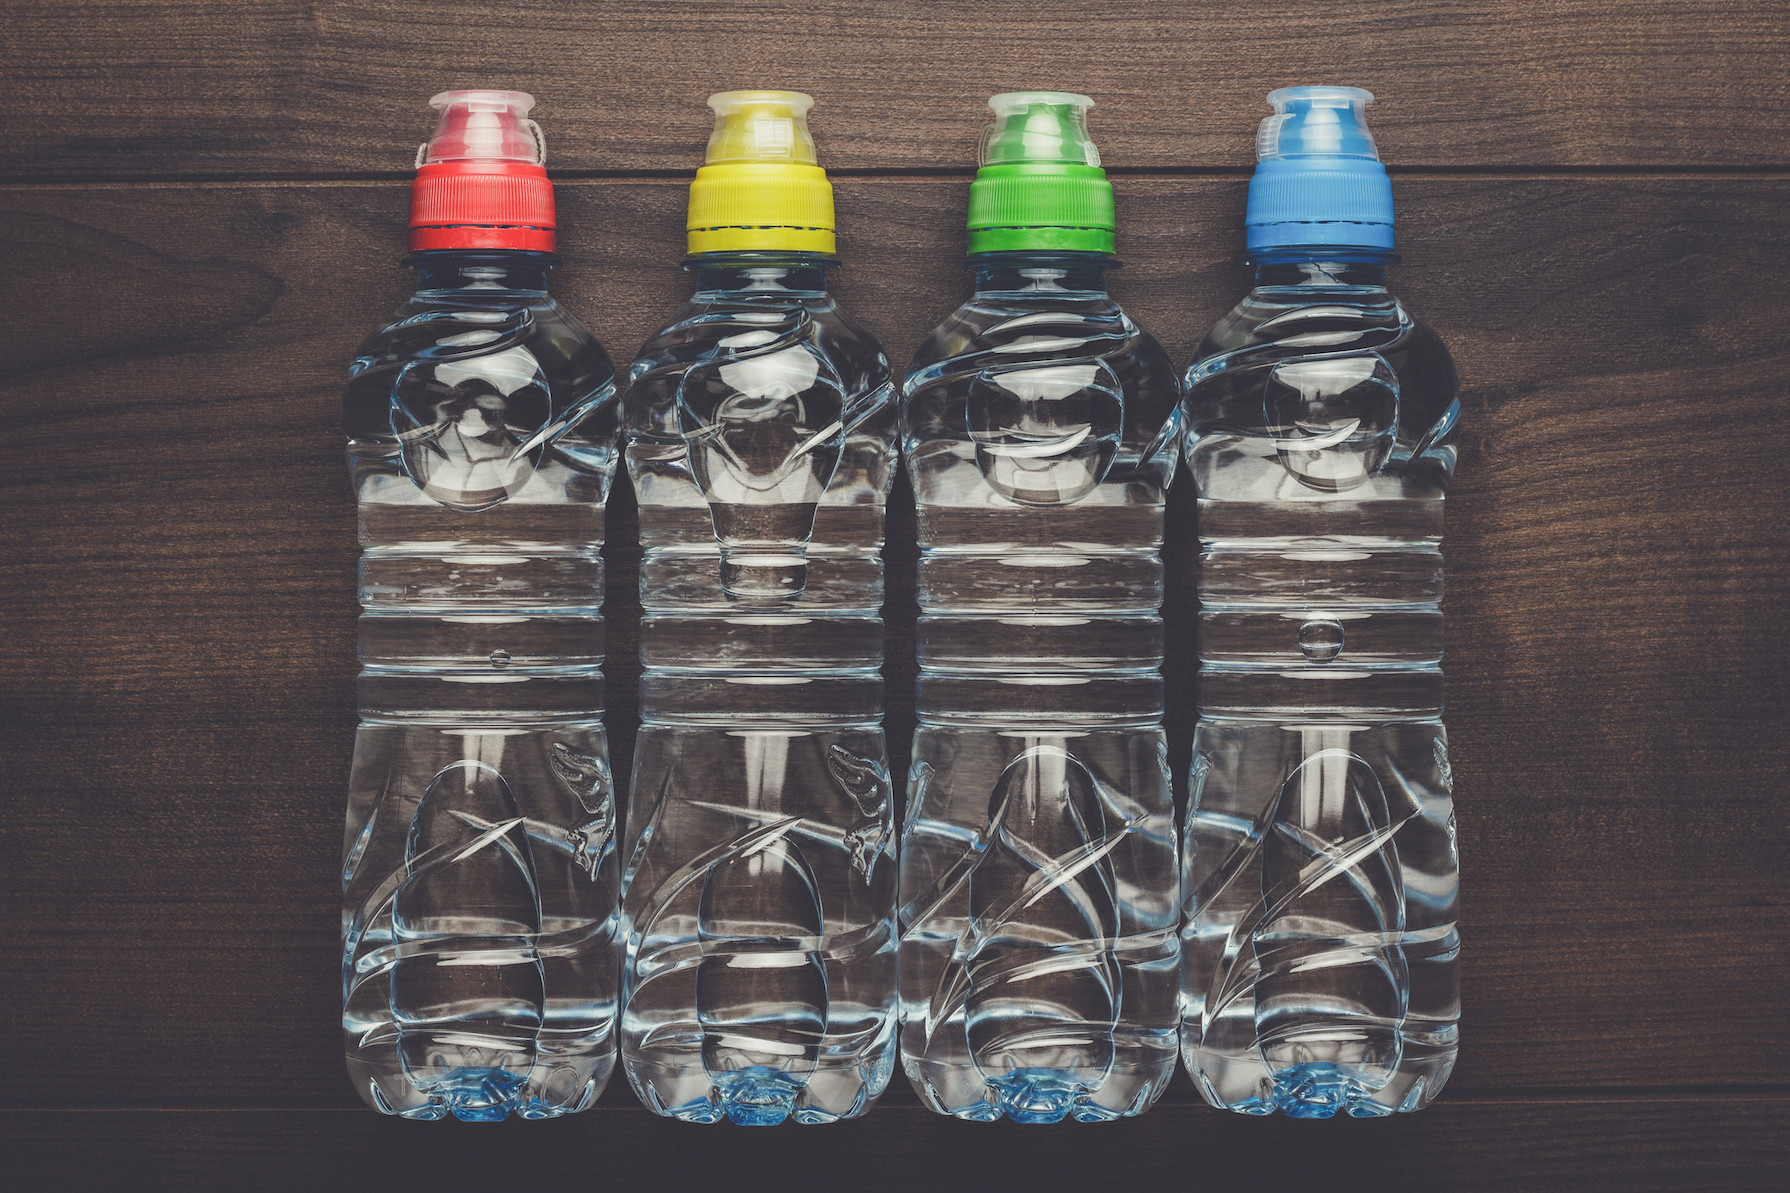bottle: (618, 92, 898, 1125), (901, 91, 1179, 1130), (1179, 91, 1455, 1132), (347, 92, 611, 1122)
